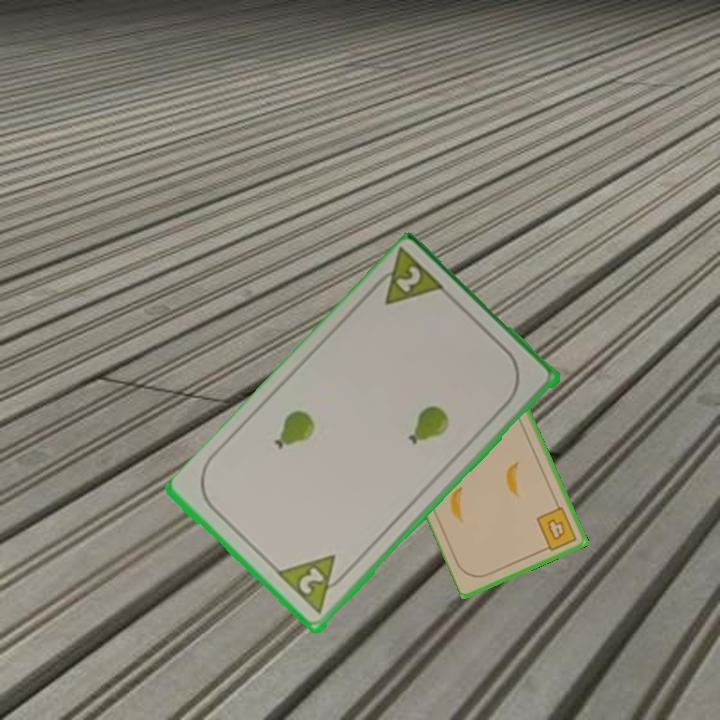2p: (365, 246, 450, 309), (275, 551, 354, 618)
4b: (533, 503, 580, 554)
